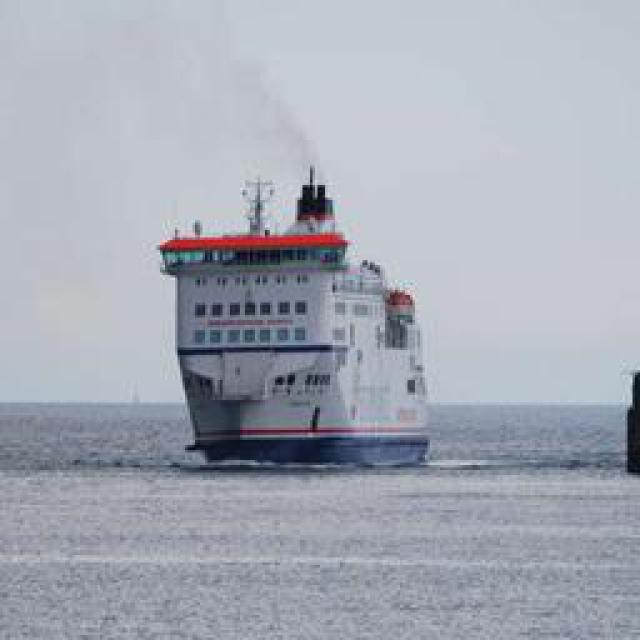Ship: (164, 155, 437, 460)
